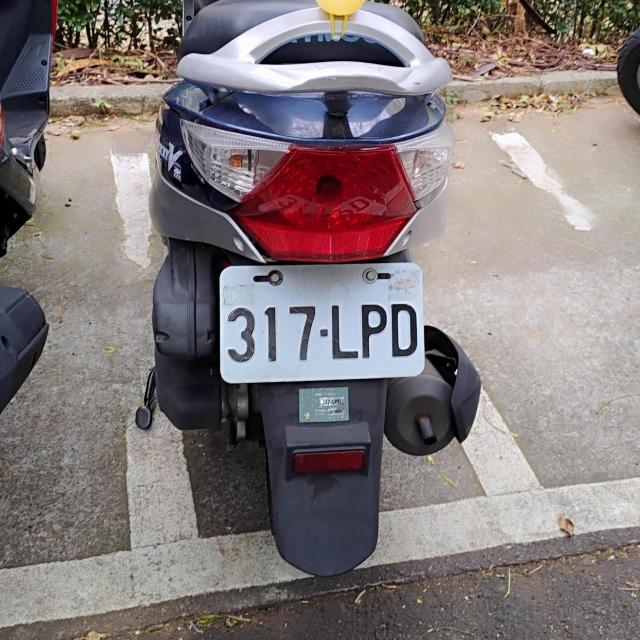W: (218, 260, 426, 382)
